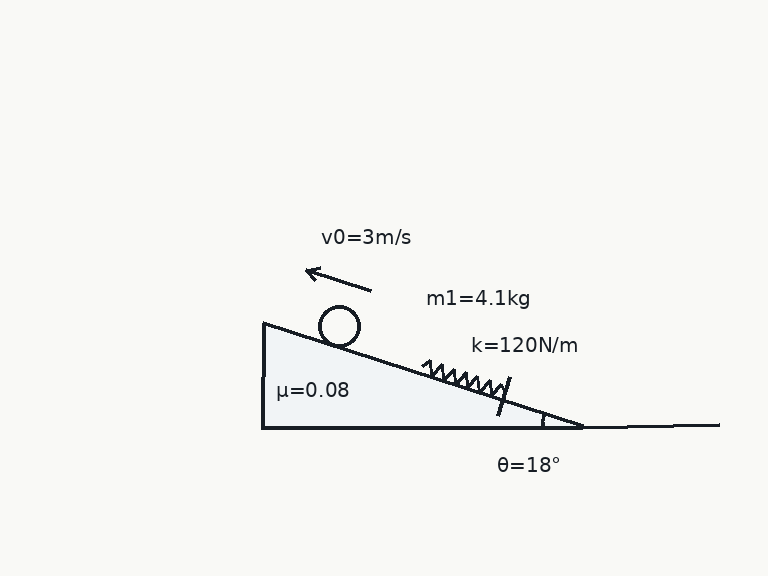ball: (316, 303, 362, 349)
ramp: (260, 321, 584, 429)
spring: (420, 359, 507, 397)
